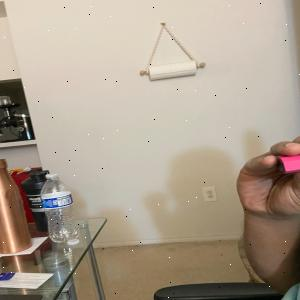Blume-E-Ciggirate: (269, 149, 300, 173)
